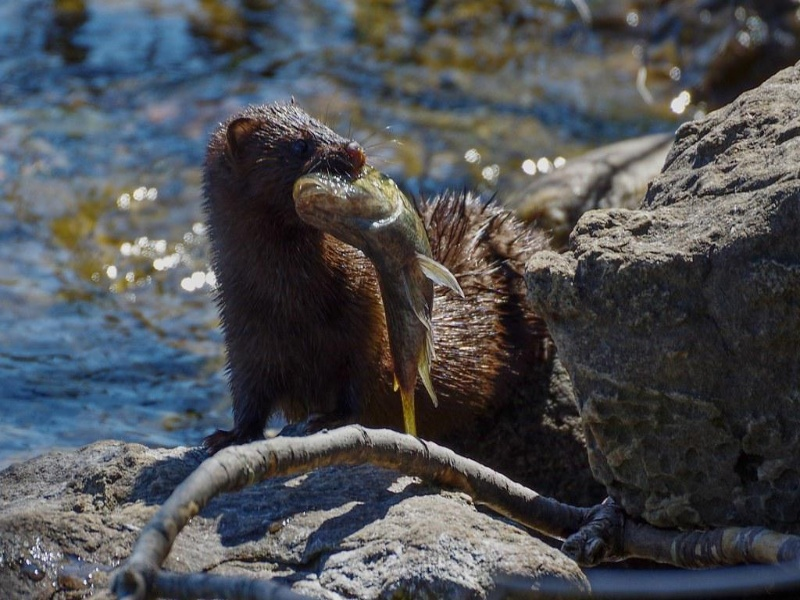minkish: (202, 102, 556, 468)
